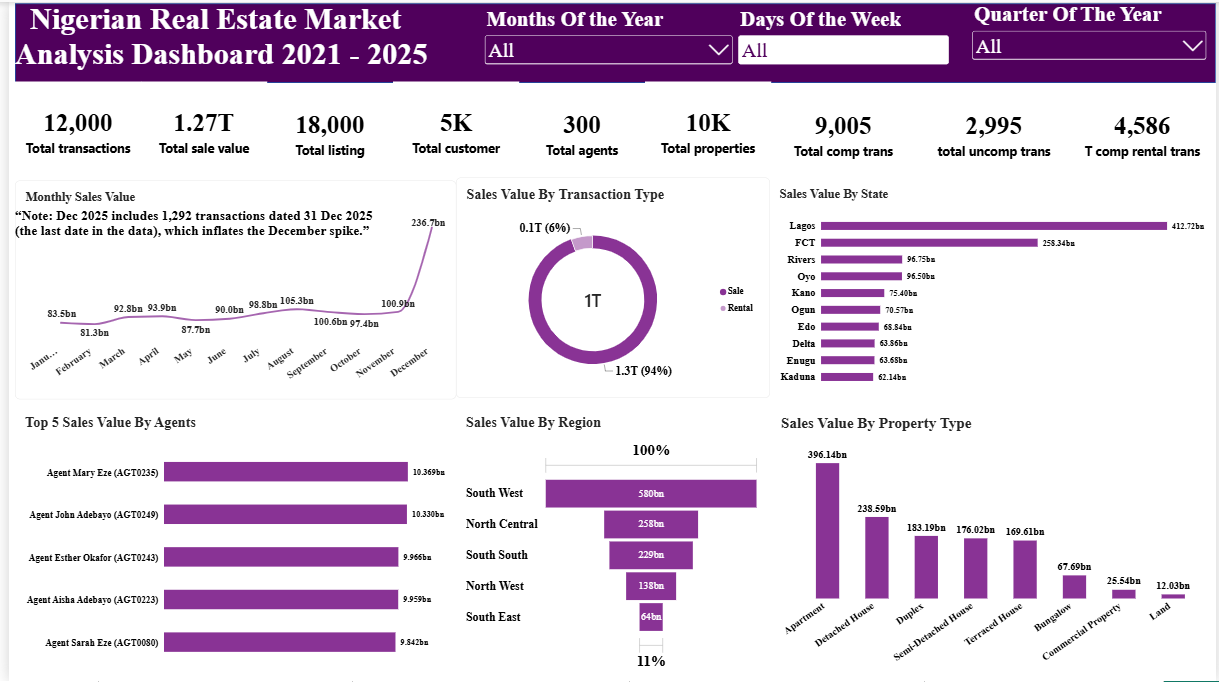

What the dashboard file says about the page in this screenshot:
{"tool":"powerbi","page":{"name":"Main Page","canvas":[1920,1080],"ordinal":0},"visuals":[{"type":"shape","box":[9.4,1.3,1911.1,126.5],"z":0},{"type":"card","fields":{"Values":["fact_transaction.total transactions"]},"box":[9.5,126.5,200.4,155.1],"z":1000},{"type":"card","fields":{"Values":["dim_customer.total customer"]},"box":[610.8,126.5,200.4,155.1],"z":2000},{"type":"card","fields":{"Values":["fact_listing.total listing"]},"box":[410.4,128.8,200.4,155.1],"z":3000},{"type":"card","fields":{"Values":["dim_property.total properties"]},"box":[1011.6,126.5,200.4,155.1],"z":4000},{"type":"card","fields":{"Values":["dim_agent.total agents"]},"box":[811.2,128.8,200.4,155.1],"z":5000},{"type":"card","fields":{"Values":["fact_transaction.total uncompleted transactions"]},"box":[1445.6,132,241.5,154.5],"z":6000},{"type":"card","fields":{"Values":["fact_transaction.total completed rental transactions"]},"box":[1687.1,132,231.8,154.5],"z":7000},{"type":"card","fields":{"Values":["fact_transaction.total completed transactions"]},"box":[1210.6,132,235,154.5],"z":8000},{"type":"card","fields":{"Values":["fact_transaction.total sale value"]},"box":[210,126.5,200.4,155.1],"z":9000},{"type":"textbox","box":[9.7,0,701.9,125.6],"z":10000},{"type":"lineChart","title":"Monthly Sales Value","fields":{"Category":["dim_date.month_name"],"Y":["fact_transaction.Total sale value"]},"box":[9.7,283.3,701.9,347.7],"z":11000},{"type":"barChart","title":"Sales Value By State","fields":{"Category":["dim_location.state"],"Y":["fact_transaction.Total sale value"]},"box":[1210.6,280.1,708.3,350.9],"z":12000},{"type":"donutChart","title":"Sales Value By Transaction Type","fields":{"Category":["fact_transaction.transaction_type"],"Y":["fact_transaction.Completed transaction value"]},"box":[711.6,280.1,499.1,350.9],"z":13000},{"type":"barChart","title":"Top 5 Sales Value By Agents","fields":{"Category":["dim_agent.Agent label"],"Y":["fact_transaction.Total sale value"]},"box":[9.7,640.7,701.9,437.9],"z":13001},{"type":"funnel","title":"Sales Value By Region","fields":{"Category":["dim_location.region"],"Y":["fact_transaction.Total sale value"]},"box":[712,641,499,438],"z":13002},{"type":"columnChart","title":"Sales Value By Property Type","fields":{"Category":["dim_property.property_type"],"Y":["fact_transaction.Total sale value"]},"box":[1211,641,708,438],"z":13003},{"type":"slicer","fields":{"Values":["dim_date.day_name"]},"box":[1154.7,6.7,345.2,125.8],"z":13004},{"type":"slicer","title":"Month of the year","fields":{"Values":["dim_date.month_name"]},"box":[750.6,6.7,404.1,125.8],"z":13005},{"type":"textbox","box":[9.6,327.9,600.4,86.8],"z":13006},{"type":"slicer","title":"Month of the year","fields":{"Values":["dim_date.quarter"]},"box":[1528,0,382.7,125.8],"z":13007}]}

Visuals, with their boxes in screenshot pixels (x1, y1, x2, y2), scaled from the page's 1920x1080 canvas onto the 1219x682 screenshot:
shape: <box>6,1,1218,81</box>
card - fact_transaction.total transactions: <box>6,80,133,178</box>
card - dim_customer.total customer: <box>388,80,515,178</box>
card - fact_listing.total listing: <box>261,81,388,179</box>
card - dim_property.total properties: <box>642,80,769,178</box>
card - dim_agent.total agents: <box>515,81,642,179</box>
card - fact_transaction.total uncompleted transactions: <box>918,83,1071,181</box>
card - fact_transaction.total completed rental transactions: <box>1071,83,1218,181</box>
card - fact_transaction.total completed transactions: <box>769,83,918,181</box>
card - fact_transaction.total sale value: <box>133,80,261,178</box>
textbox: <box>6,0,452,79</box>
"Monthly Sales Value" lineChart: <box>6,179,452,398</box>
"Sales Value By State" barChart: <box>769,177,1218,398</box>
"Sales Value By Transaction Type" donutChart: <box>452,177,769,398</box>
"Top 5 Sales Value By Agents" barChart: <box>6,405,452,681</box>
"Sales Value By Region" funnel: <box>452,405,769,681</box>
"Sales Value By Property Type" columnChart: <box>769,405,1218,681</box>
slicer - dim_date.day_name: <box>733,4,952,84</box>
"Month of the year" slicer: <box>477,4,733,84</box>
textbox: <box>6,207,387,262</box>
"Month of the year" slicer: <box>970,0,1213,79</box>
